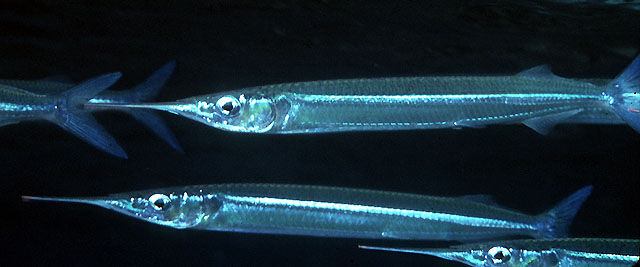fish: (83, 57, 640, 136), (21, 183, 592, 248)
